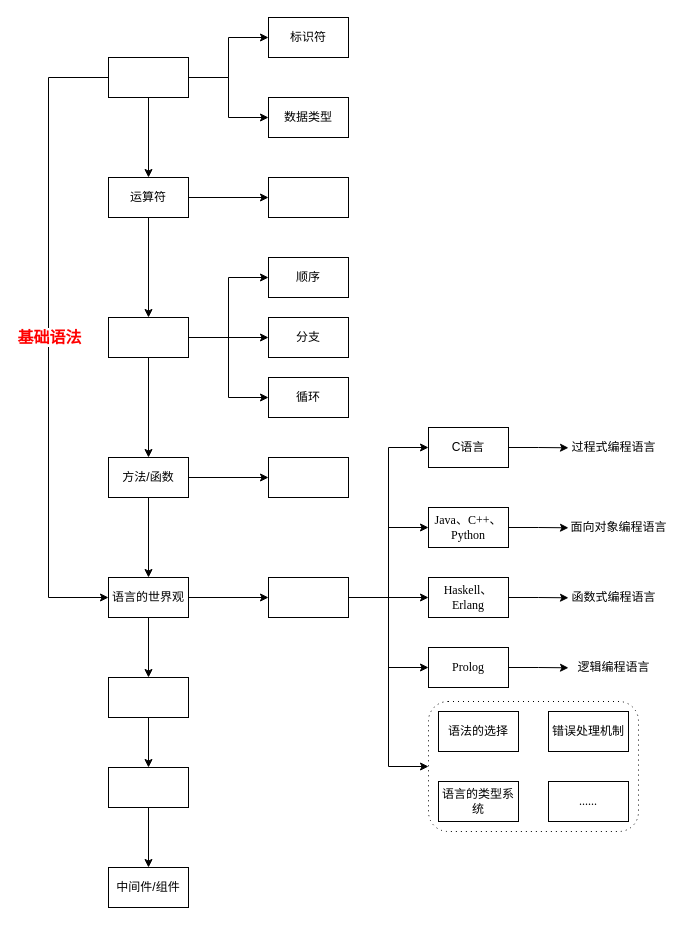
Image size: 696x925. Some labels were removed from this diagram. The centre of each missing label's shape, as x and y in pixels:
不同语言有着自己的世界观: (308,597)
变量: (148,77)
应用: (148,697)
某一功能代码的封装: (308,477)
框架: (148,787)
让多个变量产生关系: (308,197)
逻辑语句: (148,337)
